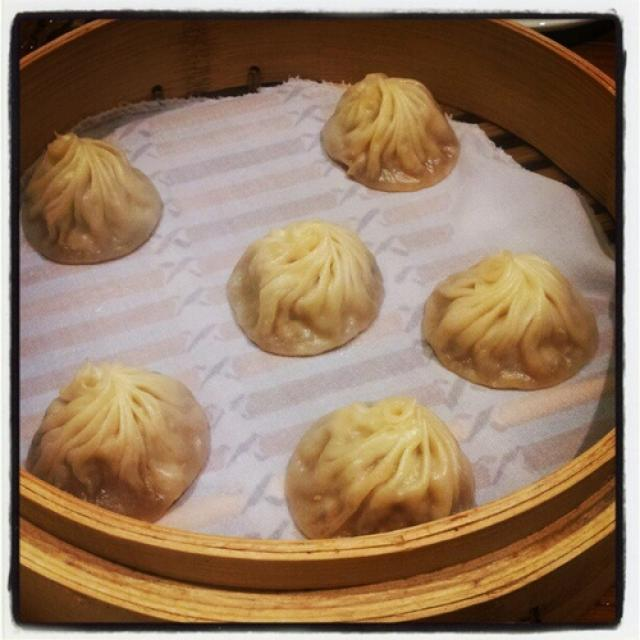带馅早点: (27, 26, 603, 604)
